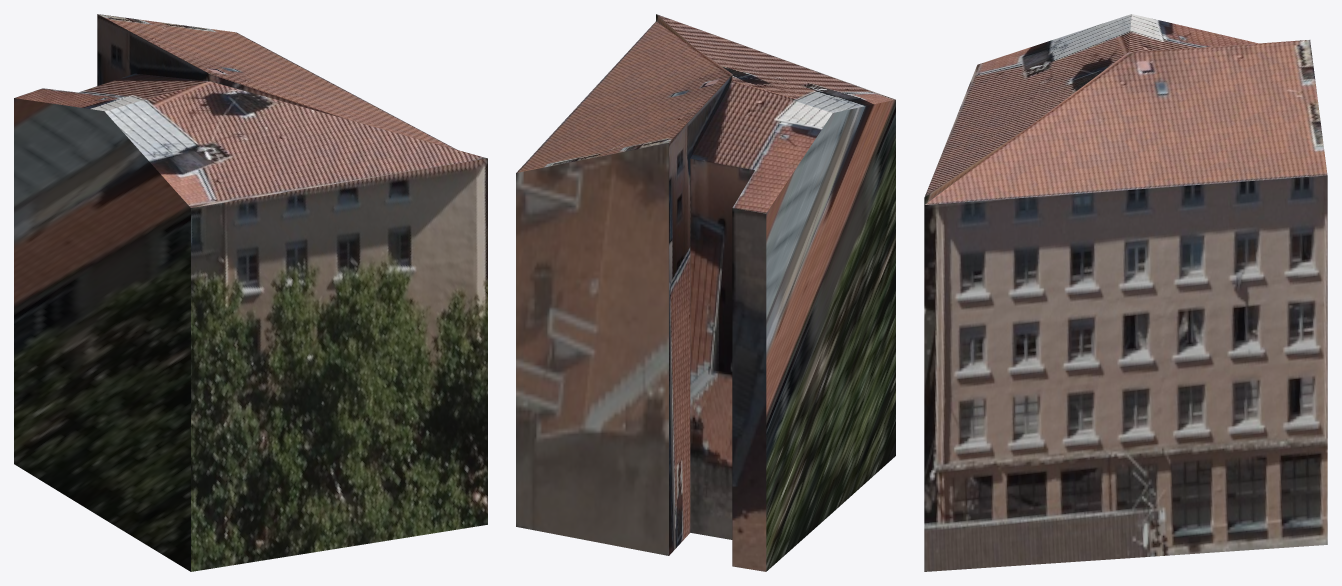
The picture shows the model from 3 angles, left to right: view 1: azimuth 30°, elevation 25°; view 2: azimuth 150°, elevation 25°; view 3: azimuth 270°, elevation 25°; orthographic projection. The views are drawn at different scales.
Visible parts, largest first — view 1: Z_UP; view 2: Z_UP; view 3: Z_UP.
Part boxes in pixels (x1,y1,x2,y2): Z_UP: (14, 14, 487, 571); Z_UP: (516, 14, 895, 571); Z_UP: (924, 14, 1327, 571).
Size of the model in its own units: 16.99 by 23.36 by 19.78.
Materials: 2 (1 with a texture image).
